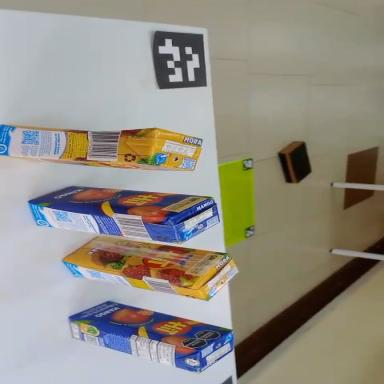HIT-MANGO: (63, 292, 237, 379), (27, 183, 221, 246)
HIT-MORA: (60, 230, 239, 304), (0, 124, 203, 171)
cara_F: (67, 292, 233, 358), (62, 231, 227, 288), (27, 182, 212, 221), (0, 155, 192, 173)
